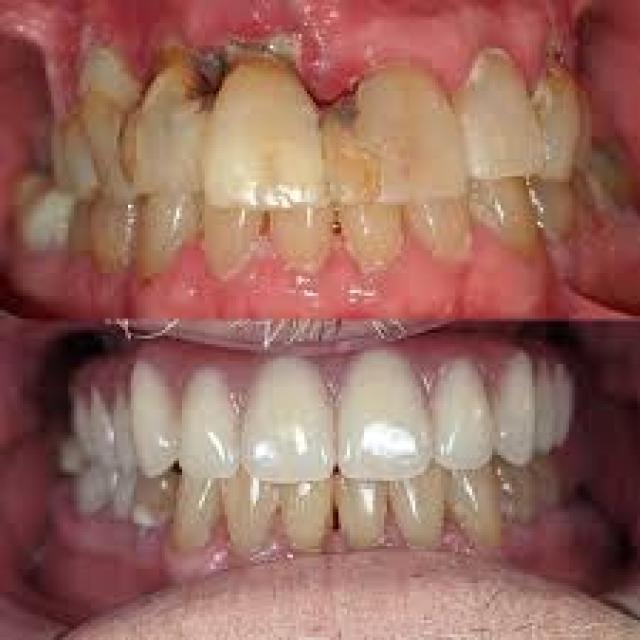tooth: (196, 51, 327, 211), (327, 77, 467, 202), (119, 26, 205, 196), (236, 350, 339, 489), (336, 342, 435, 486), (458, 40, 546, 179), (173, 350, 242, 481), (427, 350, 498, 475), (77, 57, 136, 193), (122, 347, 182, 478), (532, 57, 583, 188), (336, 182, 410, 270), (407, 182, 478, 273), (139, 194, 205, 290), (466, 165, 540, 250), (222, 461, 287, 557), (196, 190, 268, 276), (495, 347, 543, 475), (264, 193, 336, 276), (387, 460, 449, 554), (330, 466, 392, 549), (174, 466, 228, 554), (278, 466, 336, 540)
